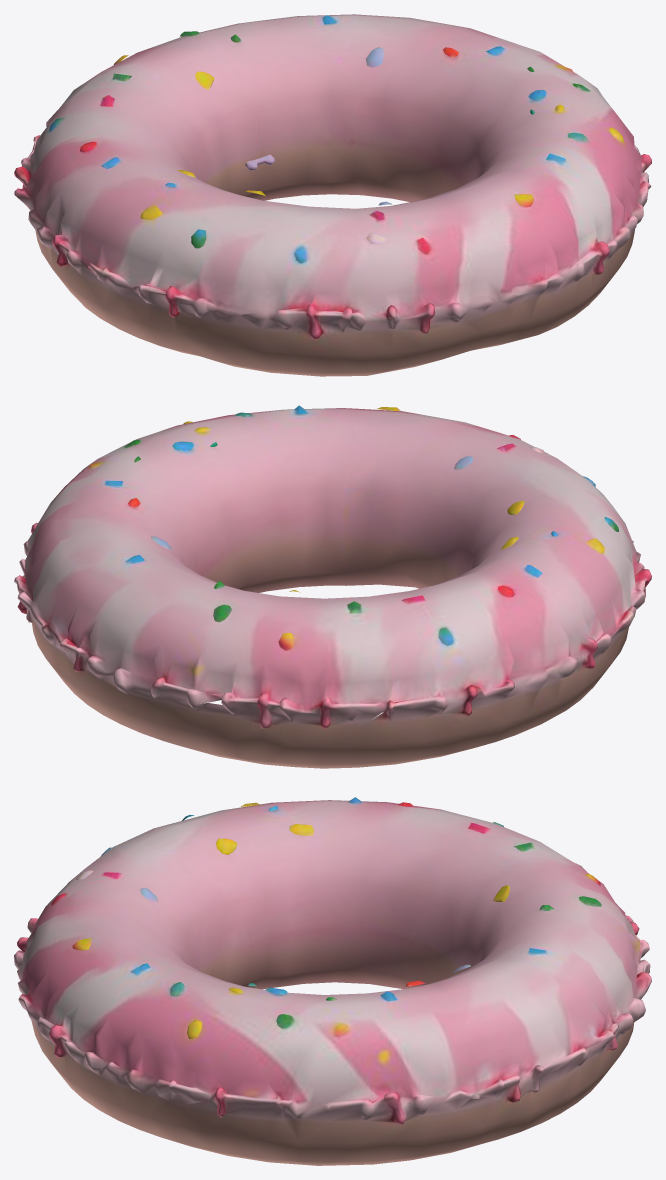
Rendered from swim-ring.glb.
The picture shows the model from 3 angles, top to bottom: view 1: azimuth 30°, elevation 25°; view 2: azimuth 150°, elevation 25°; view 3: azimuth 270°, elevation 25°; orthographic projection.
Visible parts, largest first — view 1: tripo_node_1903cce3-746e-45b5-8269-a82f71936db1; view 2: tripo_node_1903cce3-746e-45b5-8269-a82f71936db1; view 3: tripo_node_1903cce3-746e-45b5-8269-a82f71936db1.
Boxes of the visible parts, x1=… form: tripo_node_1903cce3-746e-45b5-8269-a82f71936db1: x1=14, y1=14, x2=651, y2=376; tripo_node_1903cce3-746e-45b5-8269-a82f71936db1: x1=14, y1=405, x2=651, y2=768; tripo_node_1903cce3-746e-45b5-8269-a82f71936db1: x1=14, y1=797, x2=651, y2=1165.
Size of the model in its own units: 0.9995 by 0.2856 by 0.9995.
1 material, 1 textured.
